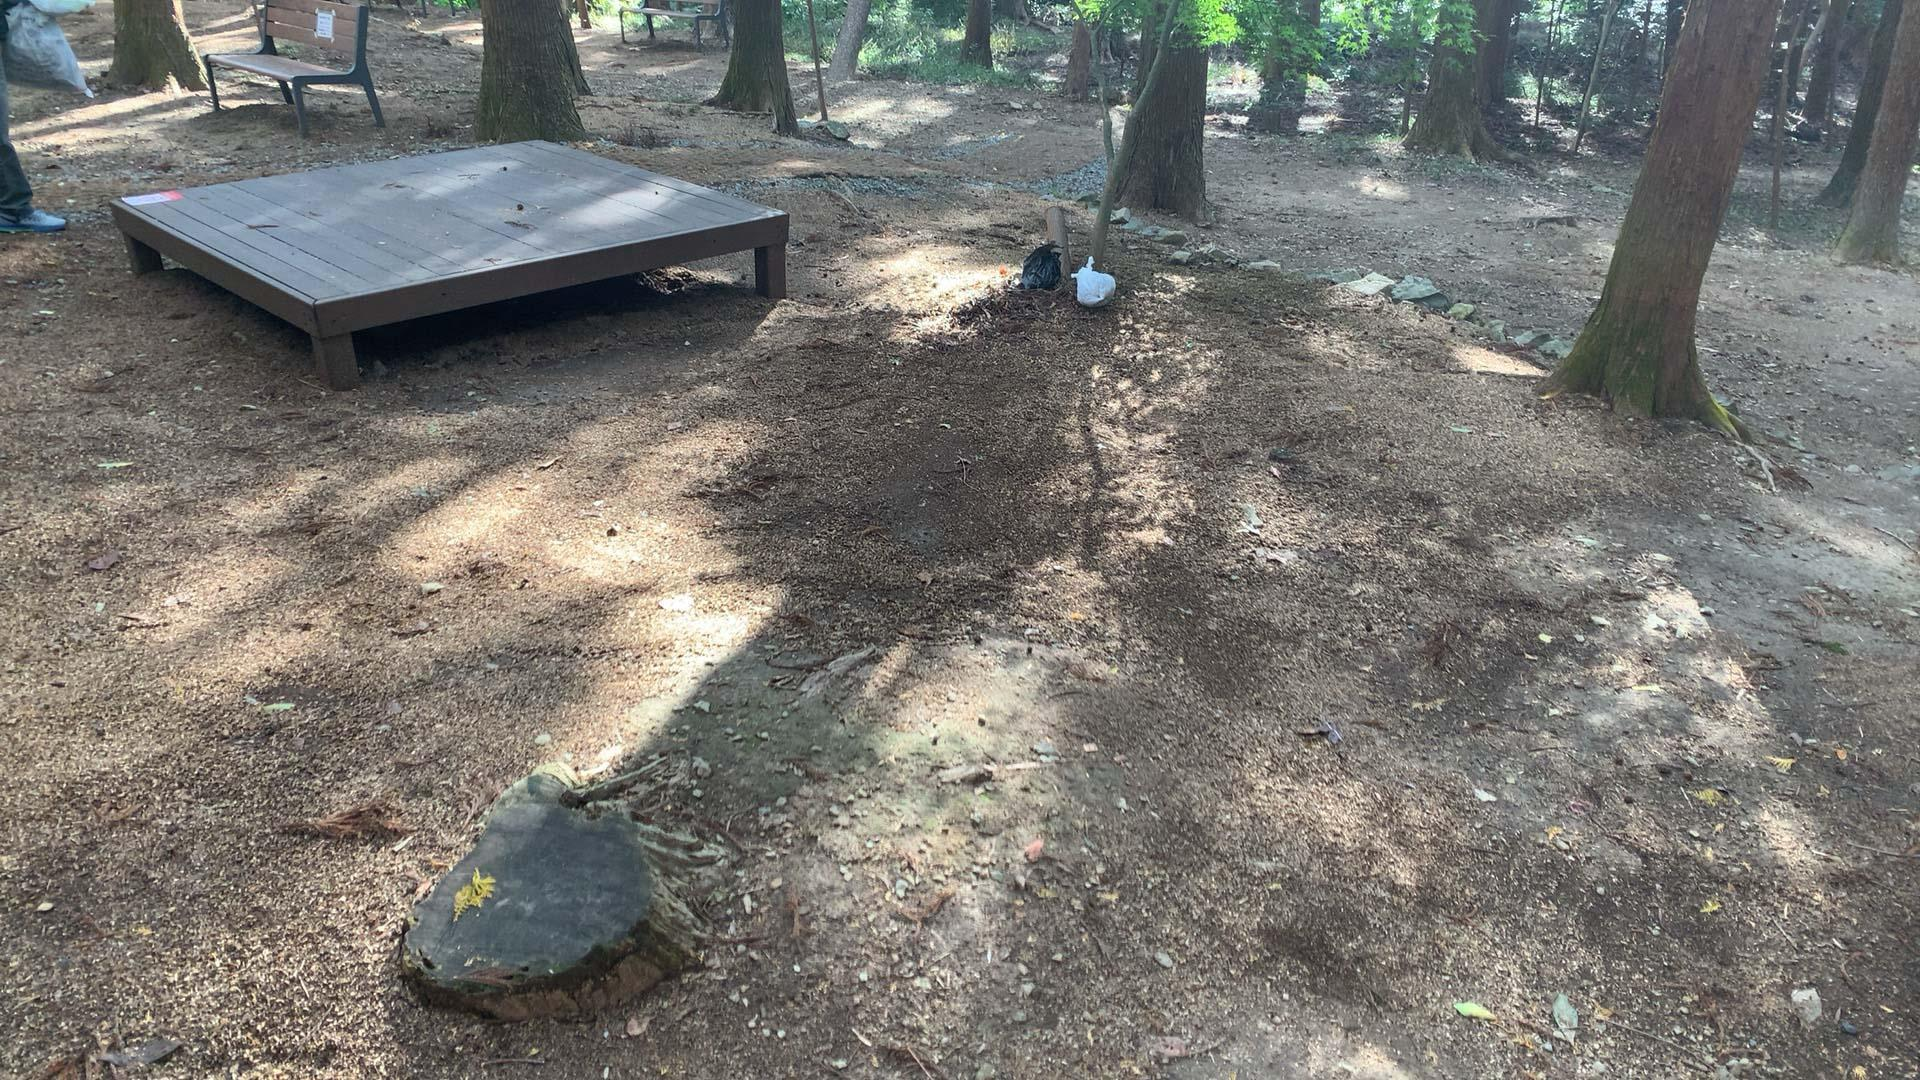black_bag: (1018, 238, 1066, 291)
white_bag: (1066, 255, 1121, 308)
